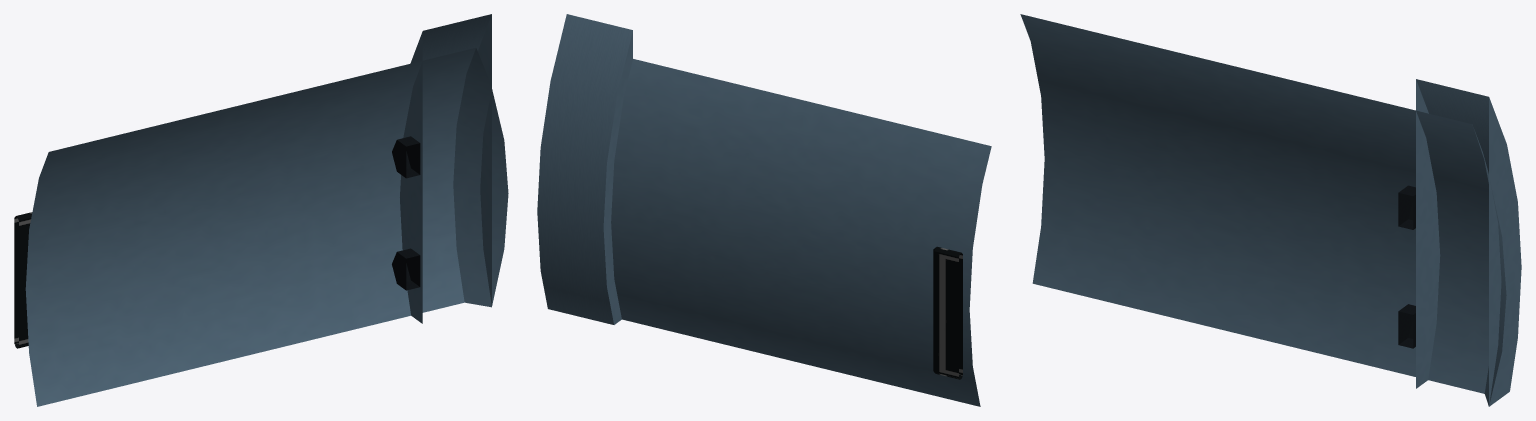
Rendered from cell_23.obj.
3 views of the same model, side by side, from view 1: azimuth 30°, elevation 25°; view 2: azimuth 150°, elevation 25°; view 3: azimuth 330°, elevation 25° (orthographic). The views are drawn at different scales.
Parts seen in each view (by area): view 1: cell_23; view 2: cell_23; view 3: cell_23.
Part boxes in pixels (x1,y1,x2,y2): cell_23: (14,14,508,406); cell_23: (537,14,991,406); cell_23: (1020,14,1521,406).
Size of the model in its own units: 0.8776 by 0.535 by 0.1132.
